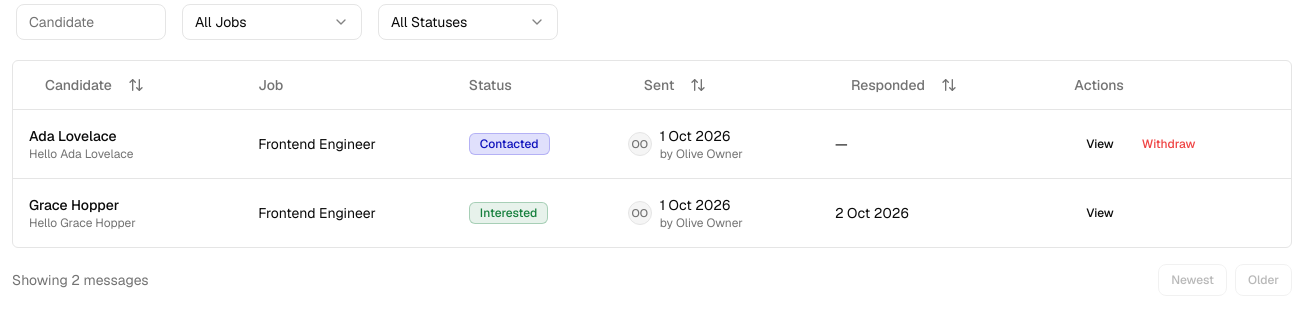
Test case: OutreachTable › searches candidates on the loaded page
The width and height of the screenshot is (1304, 313).
In the field named "Filter by candidate": (91, 22) [16,4,166,40], type "grace"
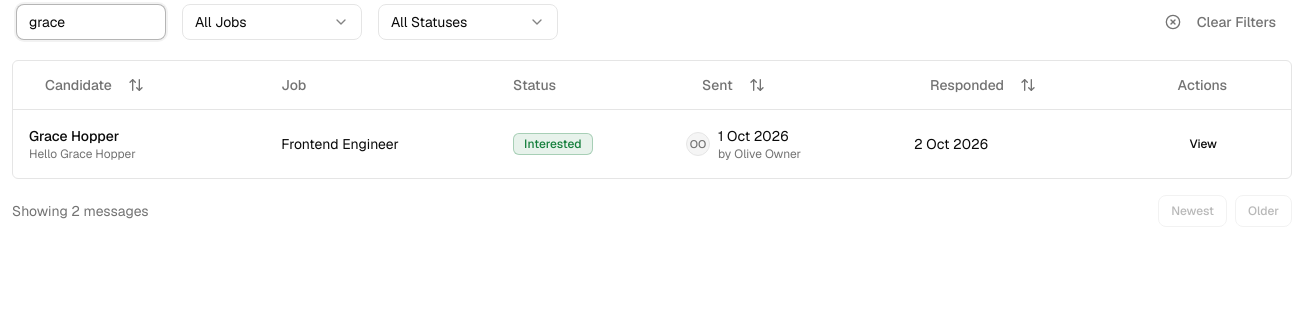
Expected: the link "Grace Hopper" is shown, [29,126,119,144]
Result: the link "Ada Lovelace" is gone
